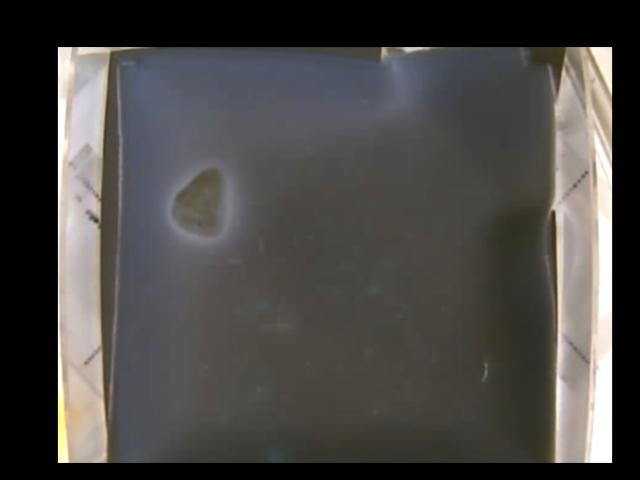Pebble: (166, 168, 228, 239)
